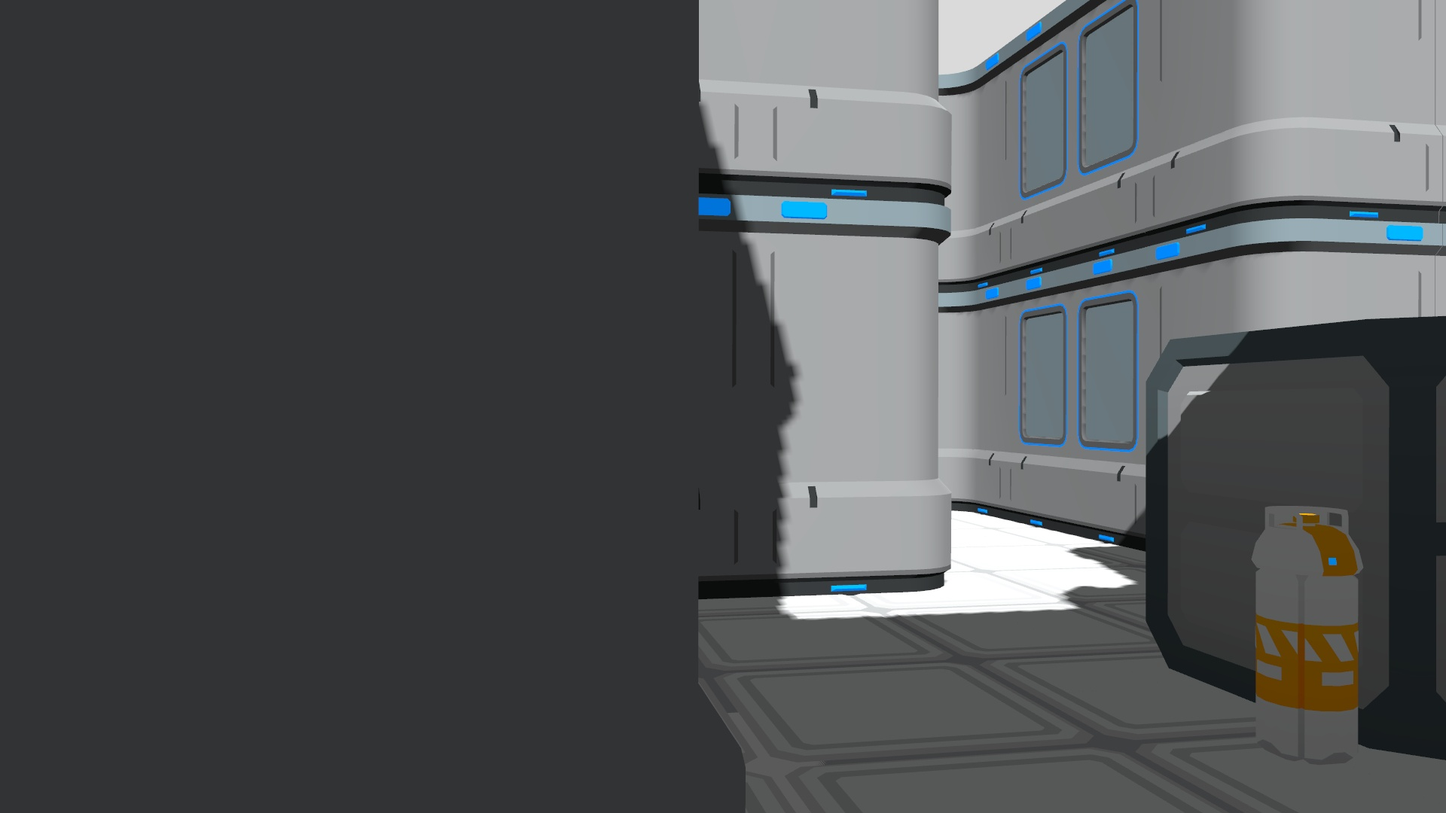yellow_barrel: (1250, 496, 1368, 773)
